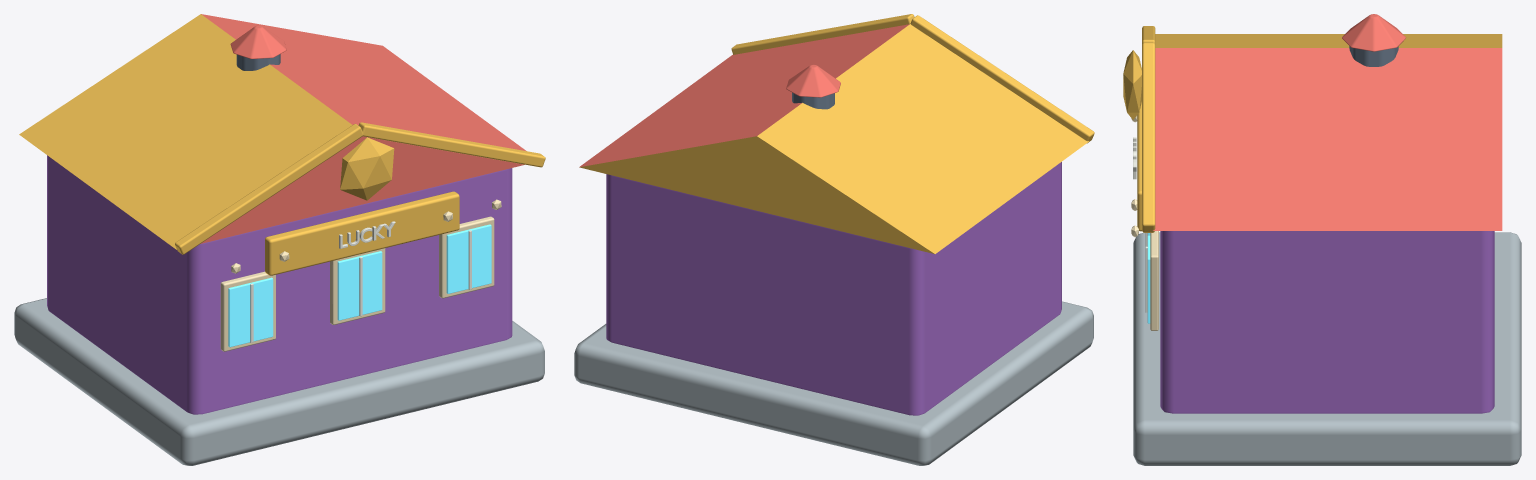
File: LuckyCasino.fbx
The picture shows the model from 3 angles, left to right: view 1: azimuth 30°, elevation 25°; view 2: azimuth 150°, elevation 25°; view 3: azimuth 270°, elevation 25°; orthographic projection. The views are drawn at different scales.
Parts seen in each view (by area): view 1: Bold pitched roof.003, Main painted walls.003, Raised stone foundation.003, Sign board.003, Front roof fascia left.003, Front window blue glass.008, Front window blue glass.009, Front roof fascia right.003, Front window blue glass.010, Lucky star, Front window cream frame.008, Roof vent cap.003 (+3 smaller); view 2: Main painted walls.003, Bold pitched roof.003, Raised stone foundation.003, Front roof fascia left.003, Front roof fascia right.003, Roof vent cap.003; view 3: Bold pitched roof.003, Main painted walls.003, Raised stone foundation.003, Front roof fascia right.003, Roof vent cap.003, Lucky star, Front window cream frame.010, Roof vent.003, Sign board.003.
Boxes of the visible parts, left/top/right/bottom form: Bold pitched roof.003: left=19, top=14, right=526, bottom=249; Main painted walls.003: left=47, top=155, right=512, bottom=414; Raised stone foundation.003: left=14, top=298, right=544, bottom=465; Sign board.003: left=265, top=191, right=459, bottom=275; Front roof fascia left.003: left=175, top=124, right=362, bottom=254; Front window blue glass.008: left=228, top=277, right=273, bottom=347; Front window blue glass.009: left=337, top=251, right=382, bottom=320; Front roof fascia right.003: left=358, top=122, right=545, bottom=167; Front window blue glass.010: left=446, top=224, right=491, bottom=293; Lucky star: left=340, top=137, right=394, bottom=200; Front window cream frame.008: left=220, top=271, right=275, bottom=351; Roof vent cap.003: left=230, top=25, right=286, bottom=58; Main painted walls.003: left=606, top=162, right=1061, bottom=415; Bold pitched roof.003: left=579, top=24, right=1089, bottom=253; Raised stone foundation.003: left=574, top=301, right=1093, bottom=465; Front roof fascia left.003: left=910, top=15, right=1094, bottom=143; Front roof fascia right.003: left=731, top=14, right=914, bottom=54; Roof vent cap.003: left=786, top=64, right=840, bottom=97; Bold pitched roof.003: left=1153, top=34, right=1502, bottom=230; Main painted walls.003: left=1160, top=231, right=1494, bottom=413; Raised stone foundation.003: left=1133, top=232, right=1521, bottom=465; Front roof fascia right.003: left=1142, top=42, right=1155, bottom=232; Roof vent cap.003: left=1342, top=14, right=1405, bottom=51; Lucky star: left=1123, top=50, right=1141, bottom=119; Front window cream frame.010: left=1150, top=231, right=1158, bottom=330; Roof vent.003: left=1349, top=46, right=1398, bottom=66; Sign board.003: left=1137, top=102, right=1141, bottom=231.
Bounding box in the file's own units: 1208 × 1012 × 1026.
